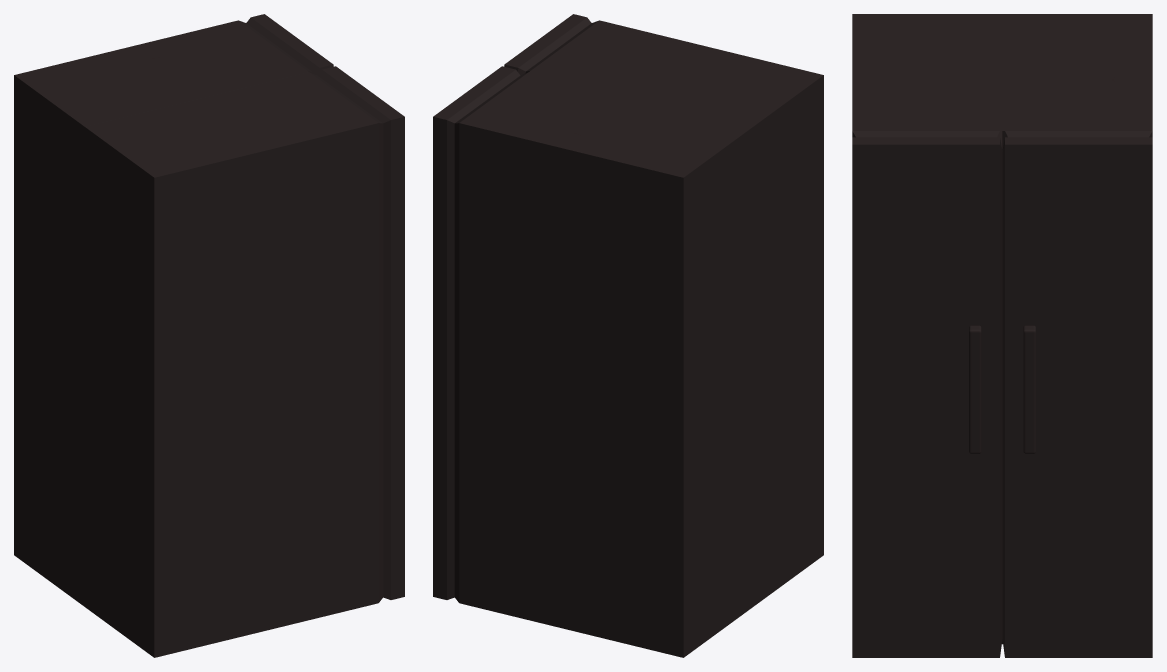
File: Fridge.FBX
3 views of the same model, side by side, from view 1: azimuth 30°, elevation 25°; view 2: azimuth 150°, elevation 25°; view 3: azimuth 270°, elevation 25° (orthographic). The views are drawn at different scales.
Parts seen in each view (by area): view 1: Box001; view 2: Box001; view 3: Box001, Box002, Box003.
Boxes of the visible parts, left/top/right/bottom form: Box001: left=14, top=14, right=404, bottom=657; Box001: left=433, top=14, right=823, bottom=657; Box001: left=852, top=14, right=1152, bottom=657; Box002: left=1023, top=325, right=1035, bottom=453; Box003: left=969, top=325, right=981, bottom=453.
Size of the model in its own units: 44.5 by 78.43 by 41.54.
